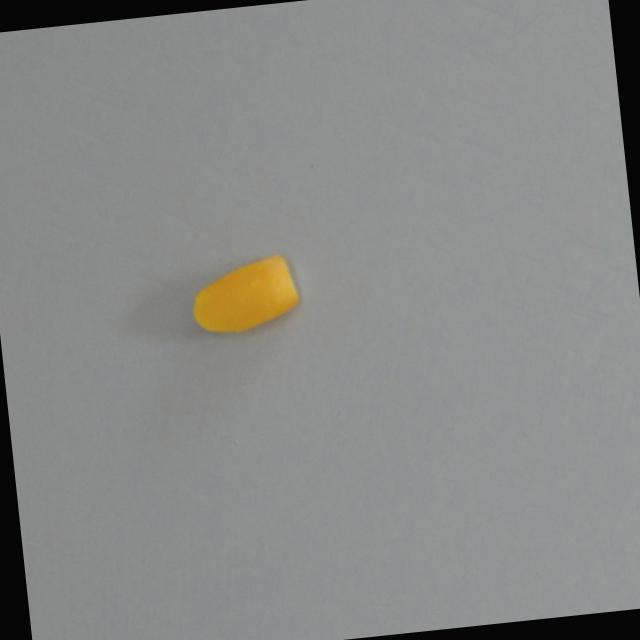estandar: (184, 252, 303, 337)
